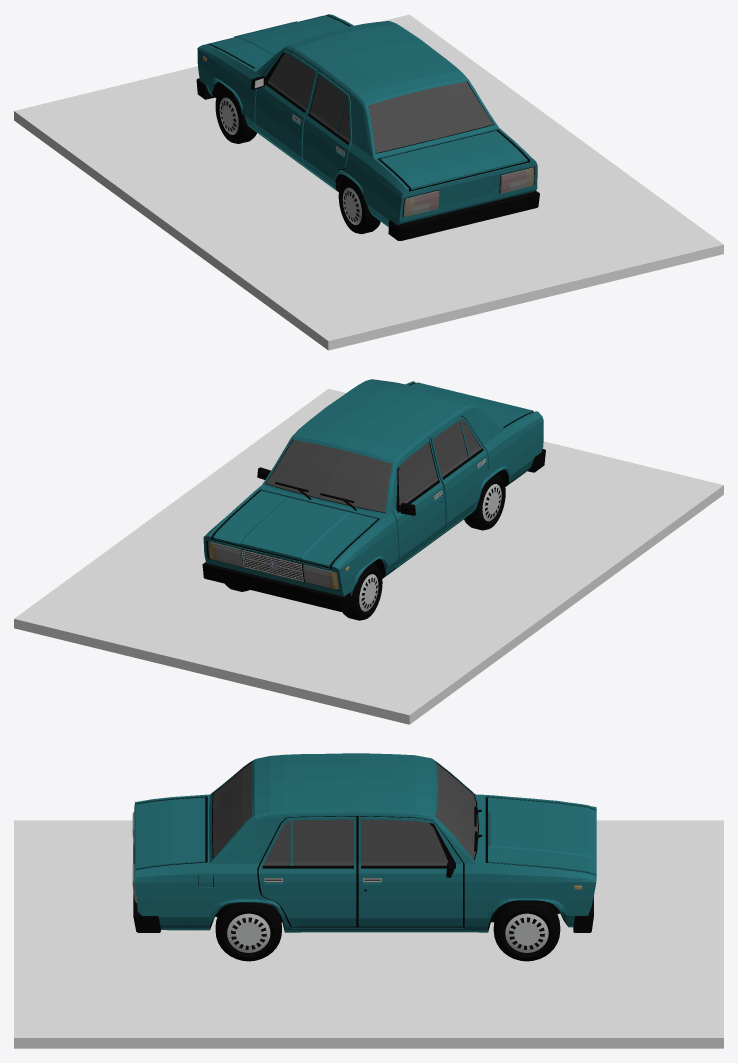
File: zizi(A).fbx
3 views of the same model, one above another, from view 1: azimuth 30°, elevation 25°; view 2: azimuth 150°, elevation 25°; view 3: azimuth 270°, elevation 25° (orthographic). The views are drawn at different scales.
Parts seen in each view (by area): view 1: Куб.029, Cube.003, Cube.001, Куб.011, Куб.020, Куб.018, Куб.019, Цилиндр.005, Цилиндр.004, Куб.031, Куб.030; view 2: Куб.029, Cube.003, Cube.001, Куб.010, Куб.017, Куб.019, Куб.018, Цилиндр.004, Цилиндр.005, Куб.026, Куб.023; view 3: Куб.029, Cube.001, Cube.003, Куб.009, Куб.001, Цилиндр, Цилиндр.001, Куб.011, Куб.010, Куб.020.
Boxes of the visible parts, x1,y1,x2,y2 form: Куб.029: [14, 14, 723, 350]; Cube.003: [197, 28, 469, 227]; Cube.001: [267, 14, 537, 207]; Куб.011: [368, 81, 493, 153]; Куб.020: [388, 191, 539, 240]; Куб.018: [309, 75, 349, 142]; Куб.019: [267, 53, 315, 110]; Цилиндр.005: [338, 177, 380, 234]; Цилиндр.004: [215, 87, 256, 143]; Куб.031: [403, 190, 439, 216]; Куб.030: [500, 167, 534, 193]; Куб.029: [14, 388, 723, 724]; Cube.003: [271, 388, 543, 596]; Cube.001: [203, 379, 475, 579]; Куб.010: [266, 439, 392, 512]; Куб.017: [202, 562, 351, 612]; Куб.019: [398, 442, 438, 505]; Куб.018: [433, 419, 481, 477]; Цилиндр.004: [342, 563, 382, 620]; Цилиндр.005: [464, 473, 505, 530]; Куб.026: [303, 564, 339, 589]; Куб.023: [208, 541, 244, 566]; Куб.029: [14, 820, 723, 1048]; Cube.001: [134, 777, 596, 932]; Cube.003: [134, 753, 596, 843]; Куб.009: [361, 819, 447, 865]; Куб.001: [263, 819, 353, 865]; Цилиндр: [493, 900, 560, 961]; Цилиндр.001: [215, 902, 281, 961]; Куб.011: [212, 762, 252, 857]; Куб.010: [435, 762, 477, 859]; Куб.020: [133, 842, 160, 932].
Bounding box in the file's own units: 521 × 179 × 717.
48 materials, 27 textured.
